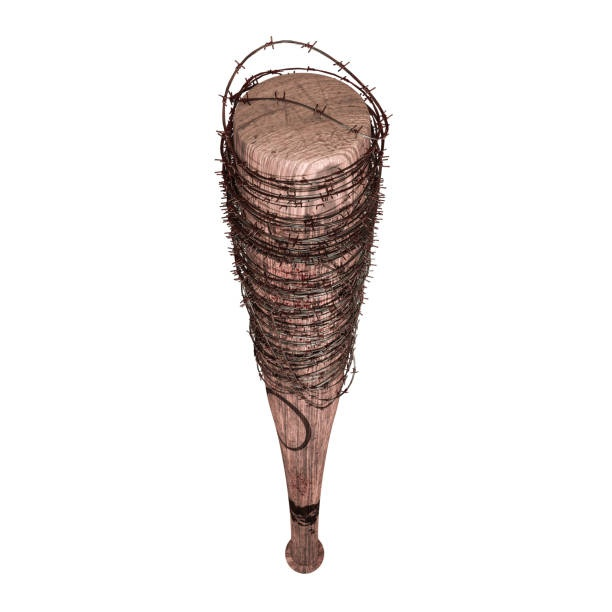bita: (220, 67, 389, 570)
